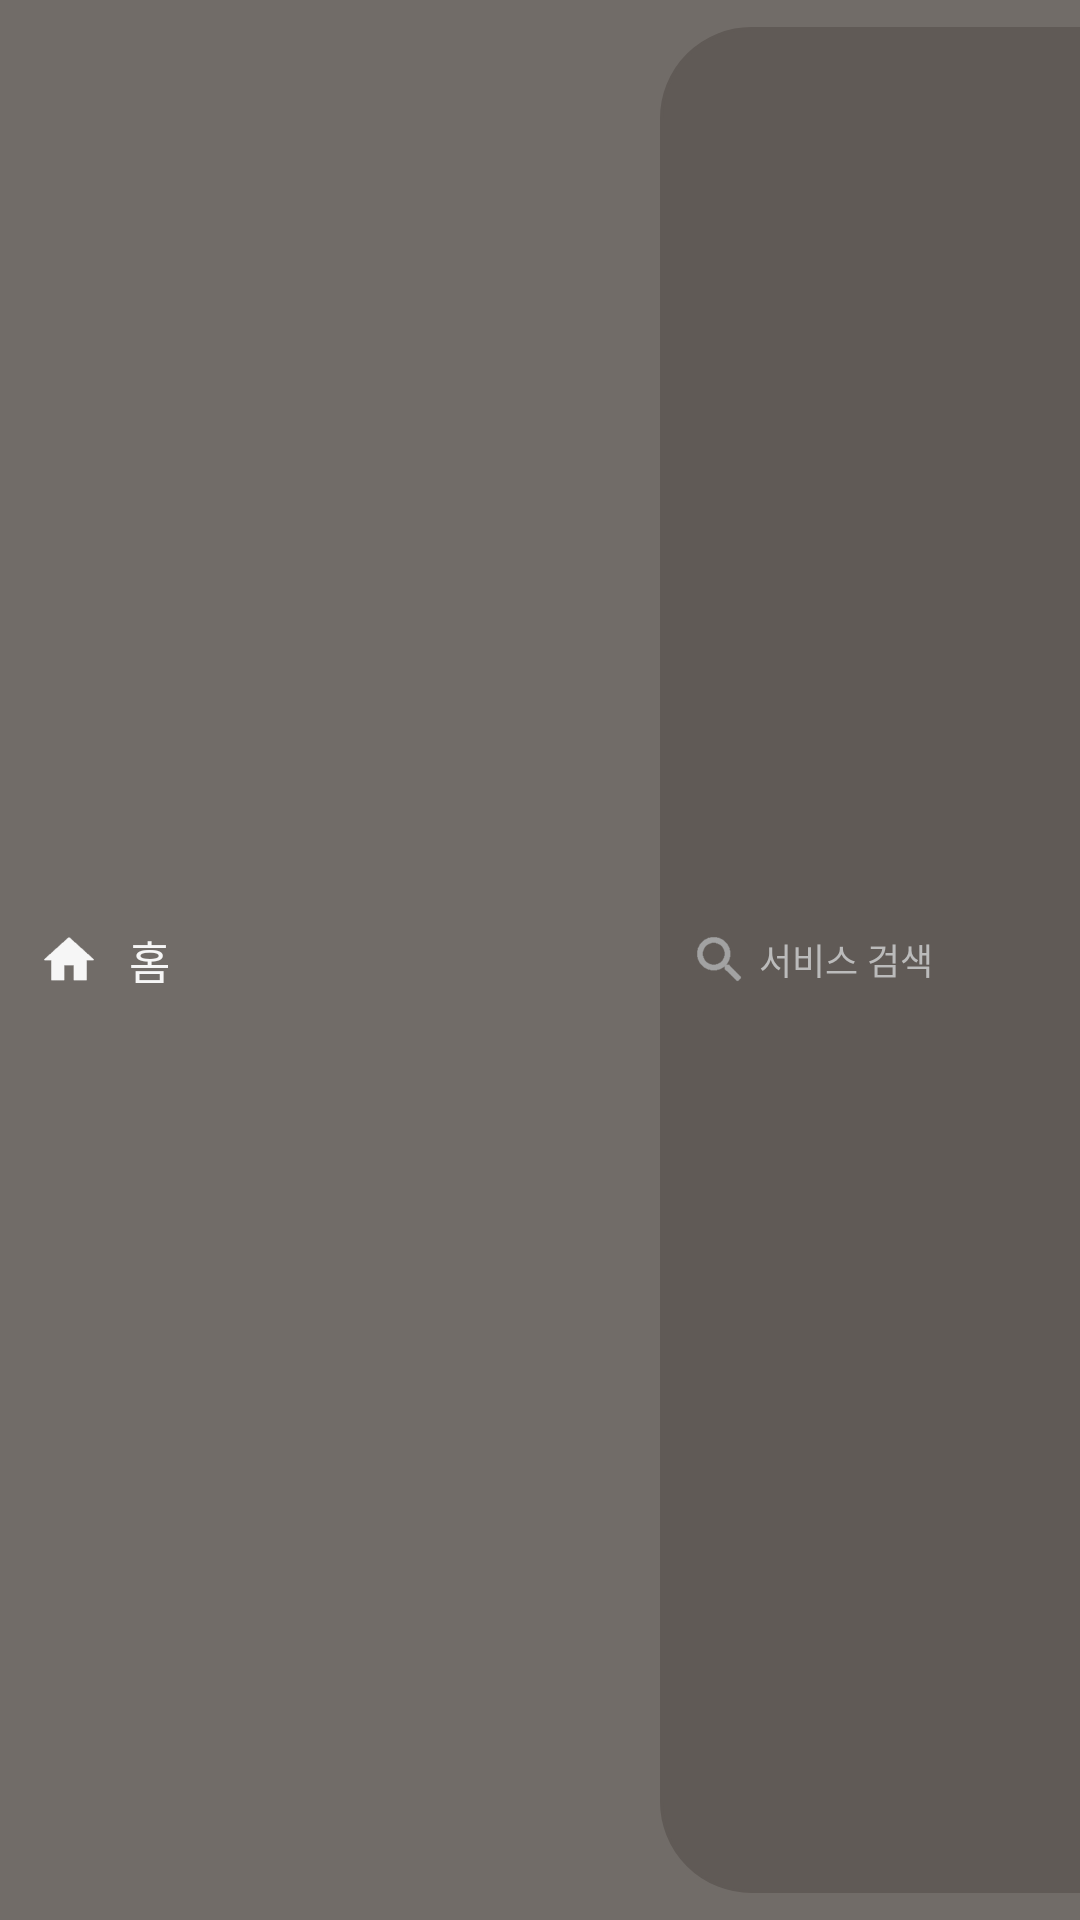

Point at icon controls on the screen. Image size 1080px x 1920px, points as (x=x, y=y).
home: (x=69, y=959)
